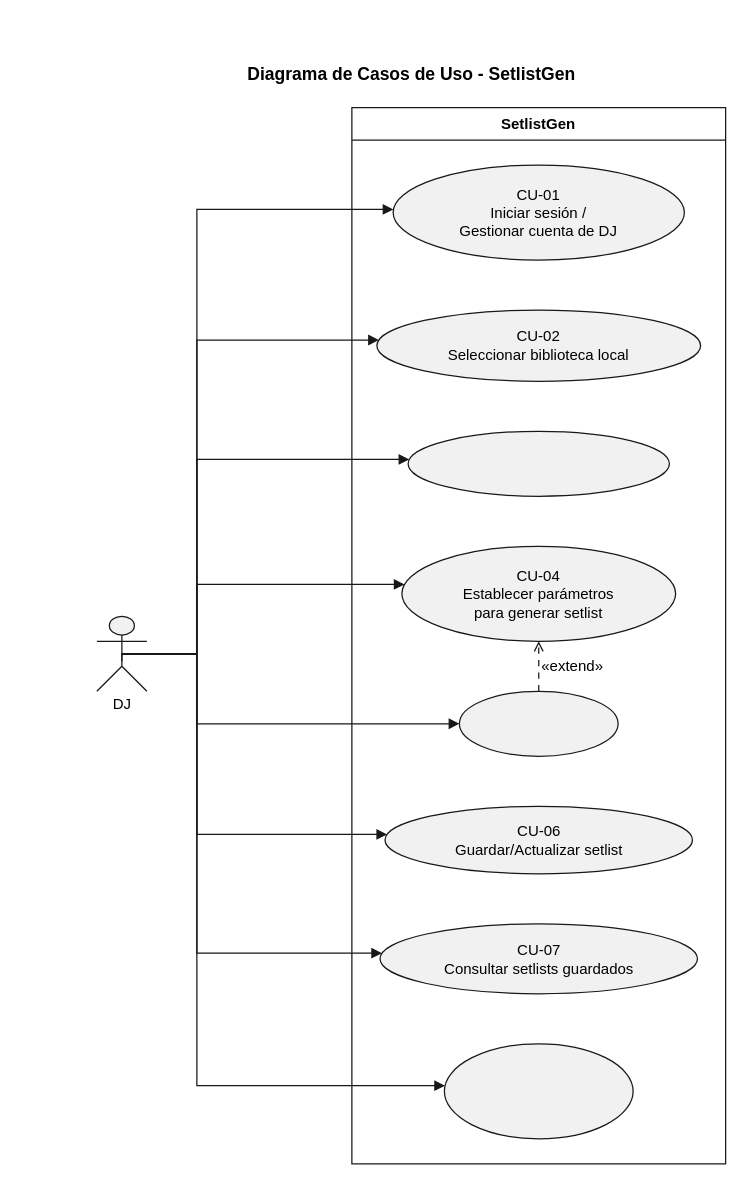
Some shapes in this 748 by 1185 pixel diagram are drawn without their labels. The centre of each missing label's shape, as x and y in pixels:
CU-03 Actualizar biblioteca: the point at 538,463
CU-05 Editar setlist: the point at 538,723
CU-08 Exportar setlist (opcional): the point at 538,1090
